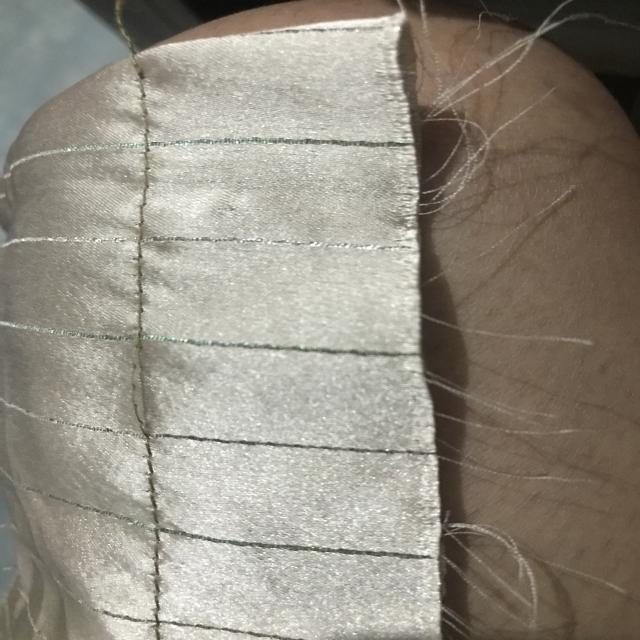skip: (117, 314, 180, 455)
